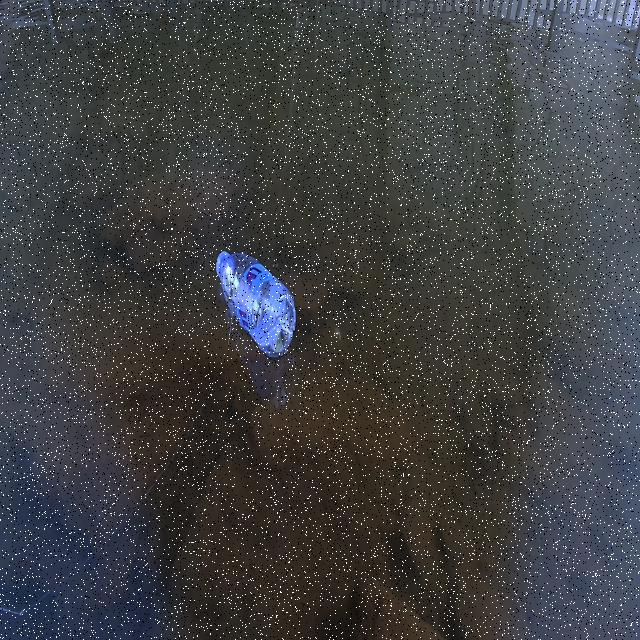Bottle: (214, 242, 297, 360)
